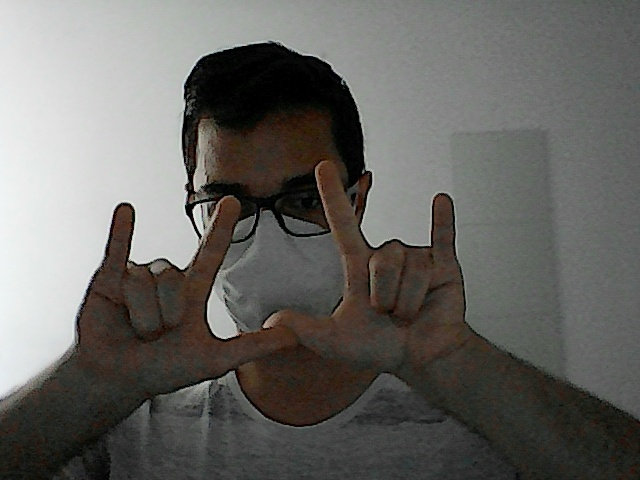shoot: (70, 183, 303, 394), (256, 161, 475, 376)
